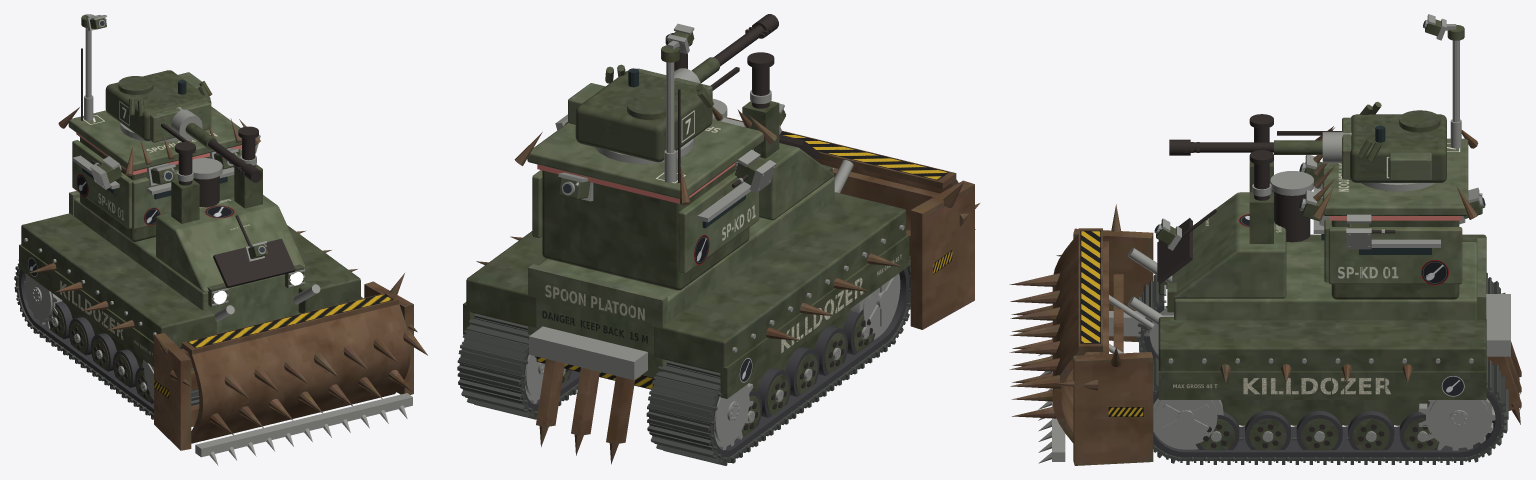
Rendered from killdozer.glb.
The picture shows the model from 3 angles, left to right: view 1: azimuth 30°, elevation 25°; view 2: azimuth 150°, elevation 25°; view 3: azimuth 270°, elevation 25°; orthographic projection. The views are drawn at different scales.
Parts seen in each view (by area): view 1: DozerBody, DozerParts, TurretBody, Decal_HazardLip, TurretParts, Decal_Name-1; view 2: DozerBody, DozerParts, TurretBody, Decal_HazardLip, TurretParts, Band, Decal_Name-1, Decal_PlatoonRear; view 3: DozerBody, DozerParts, TurretBody, Decal_HazardLip, TurretParts, Decal_Name1, Decal_EmblemCab1, Band.
Boxes of the visible parts, x1,y1,x2,y2 form: DozerBody: [19, 14, 427, 450]; DozerParts: [14, 14, 412, 465]; TurretBody: [105, 70, 216, 149]; Decal_HazardLip: [187, 293, 393, 348]; TurretParts: [161, 80, 262, 182]; Decal_Name-1: [60, 280, 123, 339]; DozerBody: [463, 31, 979, 464]; DozerParts: [457, 23, 910, 465]; TurretBody: [568, 57, 719, 162]; Decal_HazardLip: [727, 118, 948, 180]; TurretParts: [628, 14, 778, 90]; Band: [537, 149, 753, 203]; Decal_Name-1: [781, 278, 863, 352]; Decal_PlatoonRear: [545, 285, 644, 320]; DozerBody: [1009, 19, 1521, 465]; DozerParts: [1038, 14, 1510, 464]; TurretBody: [1274, 101, 1446, 182]; Decal_HazardLip: [1080, 230, 1100, 343]; TurretParts: [1169, 125, 1385, 163]; Decal_Name1: [1243, 377, 1390, 394]; Decal_EmblemCab1: [1421, 260, 1448, 285]; Band: [1330, 216, 1460, 220].
Size of the model in its own units: 5.6 by 6.66 by 8.44.
Materials: 16 (16 with a texture image).
